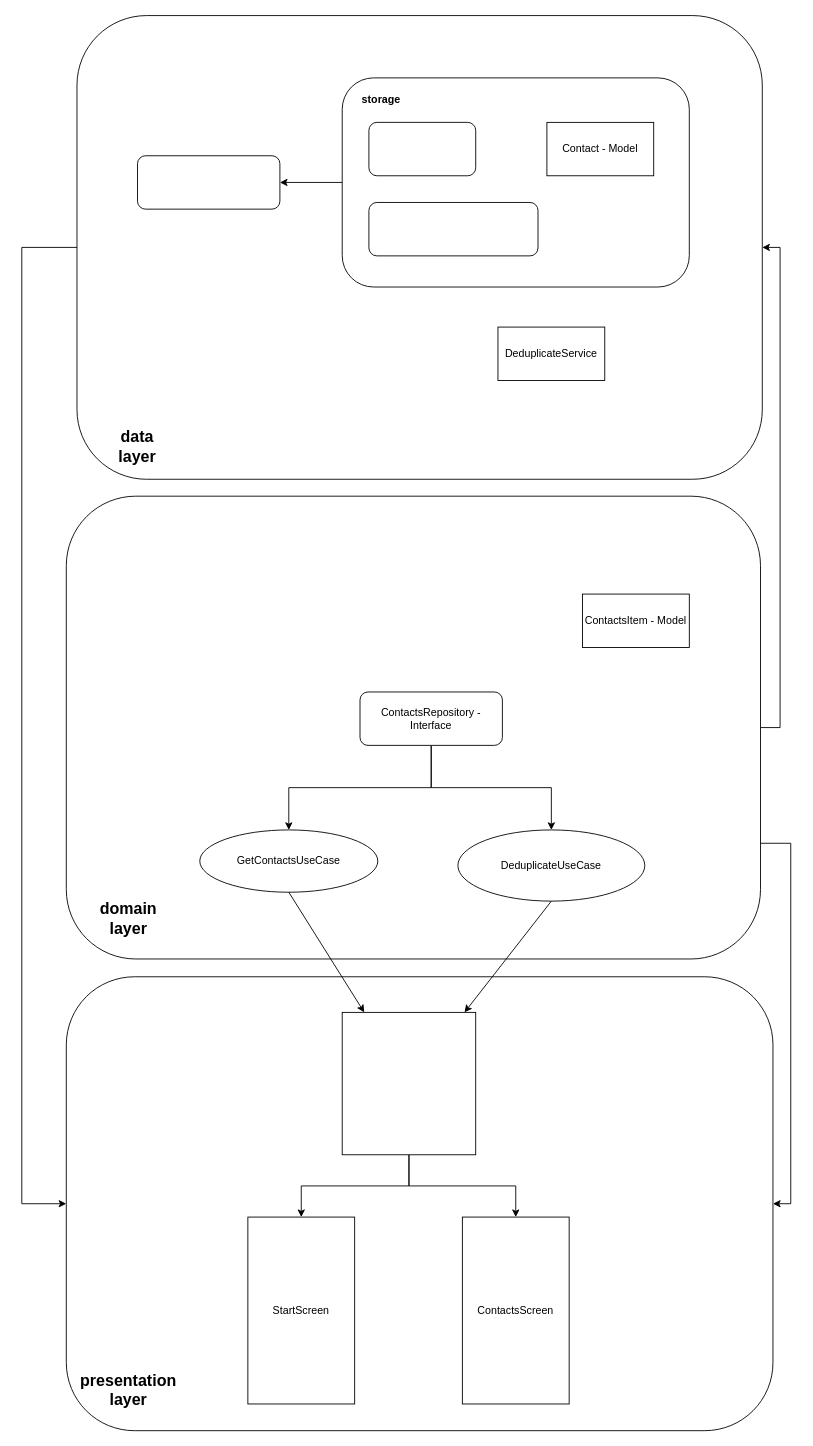
Image size: 813x1446. Some labels were removed from this diagram. Here are the shapes that lost their labels. From the top down, the centre of each, then its label:
At point 422,148: "ContactStorage".
At point 208,182: "ContactsRepositoryImpl - Implementation".
At point 453,229: "ContentResolverStorageImpl".
At point 408,1083: "MainViewModel".
